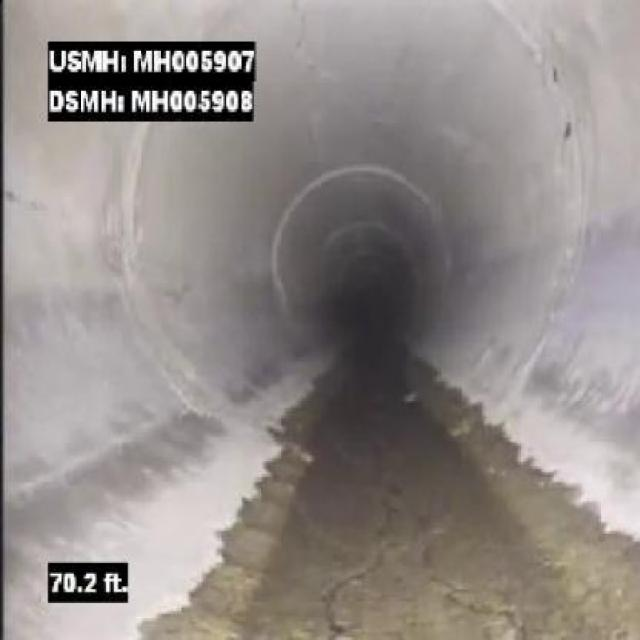Crack: (318, 552, 384, 638), (432, 584, 530, 638), (374, 480, 412, 551), (8, 174, 50, 231), (283, 0, 312, 78)
